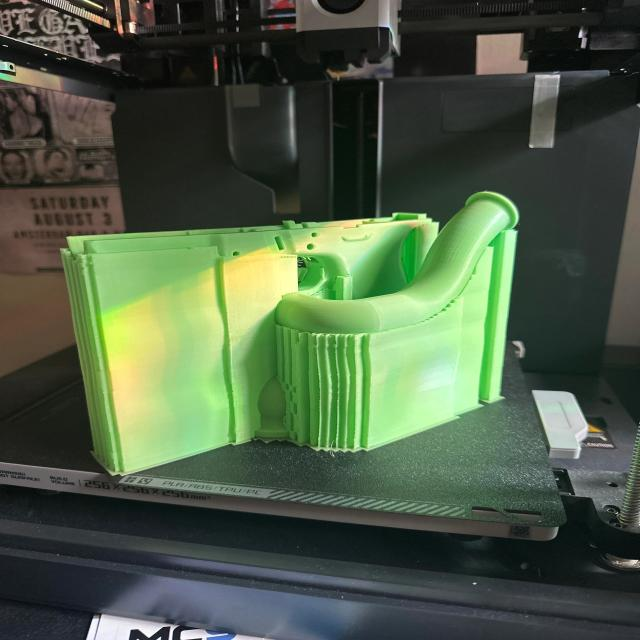cracks: (194, 248, 335, 270)
